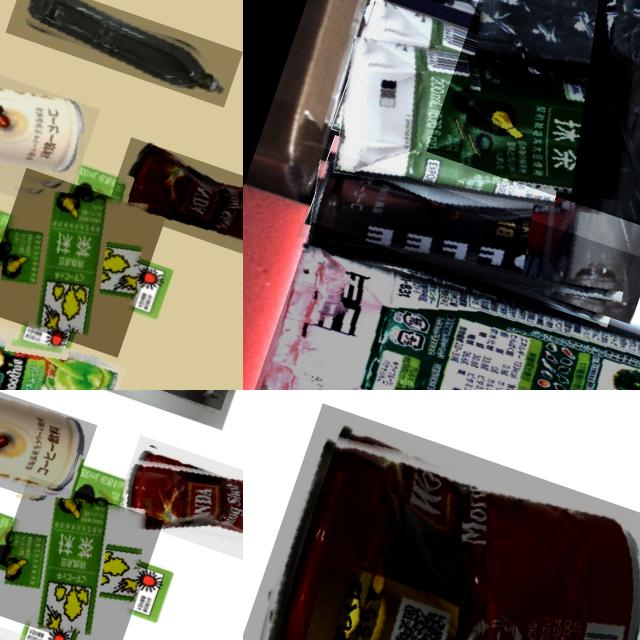Aluminium Foil: (320, 0, 640, 303), (253, 221, 640, 390), (0, 166, 166, 356), (0, 474, 163, 640), (0, 294, 126, 390)
Can: (243, 402, 640, 640), (296, 119, 640, 340), (113, 434, 243, 582), (107, 135, 243, 271), (0, 29, 100, 213), (0, 390, 97, 509)
Transparent Plastic Bottle: (426, 0, 640, 272), (5, 0, 243, 106)
